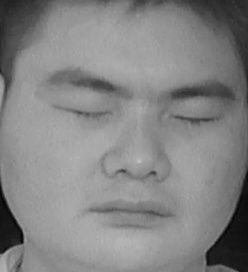blink: (172, 102, 224, 137), (62, 96, 114, 128)
mouth: (84, 188, 176, 239)
